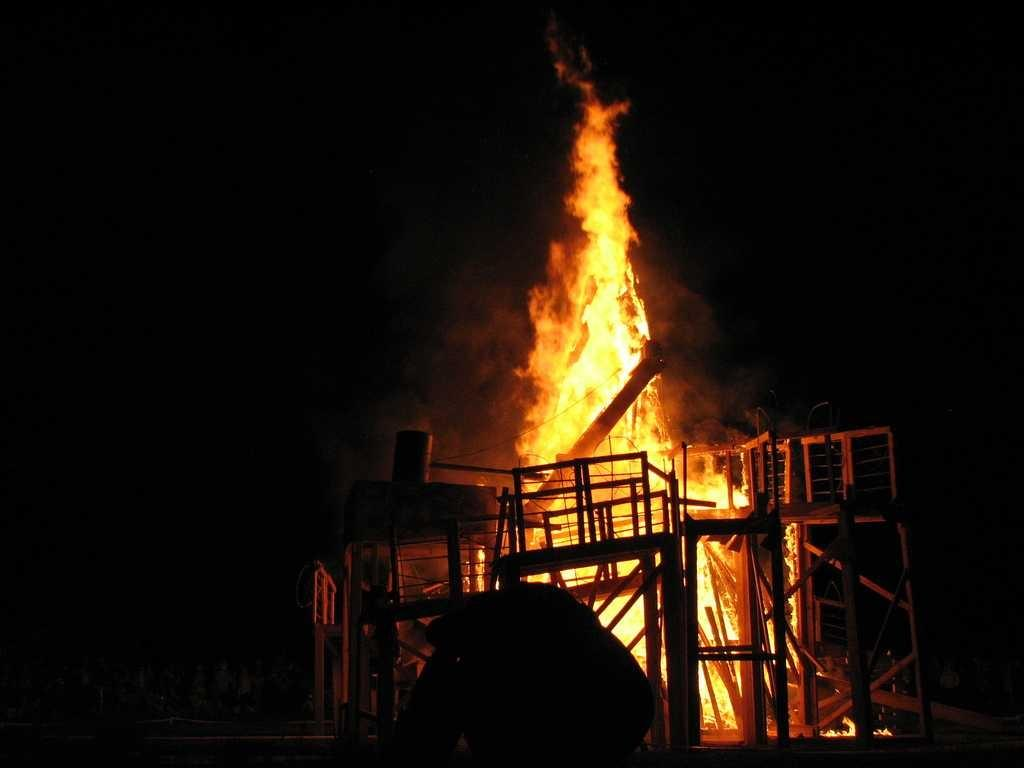fire: (544, 124, 709, 636)
